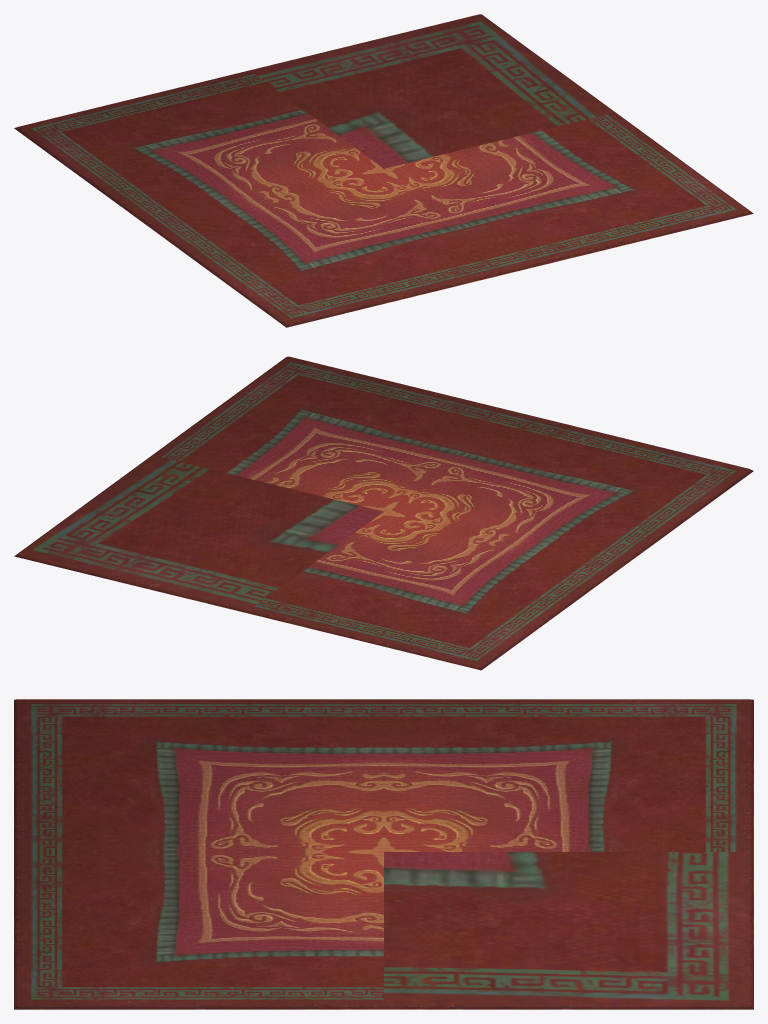
Rendered from jj_ditan01_54_01_1980out.fbx.
The picture shows the model from 3 angles, top to bottom: view 1: azimuth 30°, elevation 25°; view 2: azimuth 150°, elevation 25°; view 3: azimuth 270°, elevation 25°; orthographic projection. The views are drawn at different scales.
Visible parts, largest first — view 1: jj_ditan01; view 2: jj_ditan01; view 3: jj_ditan01.
Boxes of the visible parts, x1,y1,x2,y2 form: jj_ditan01: (14, 14, 753, 327); jj_ditan01: (14, 356, 753, 670); jj_ditan01: (14, 699, 753, 1009).
Size of the model in its own units: 14.55 by 0.0635 by 14.68.
